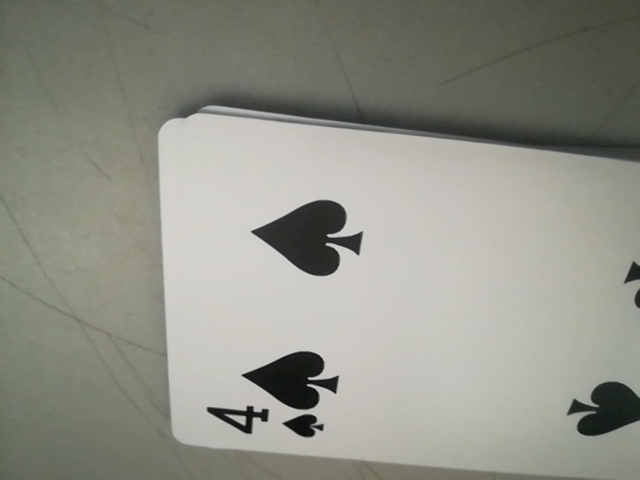ht 4: (194, 399, 337, 449)
